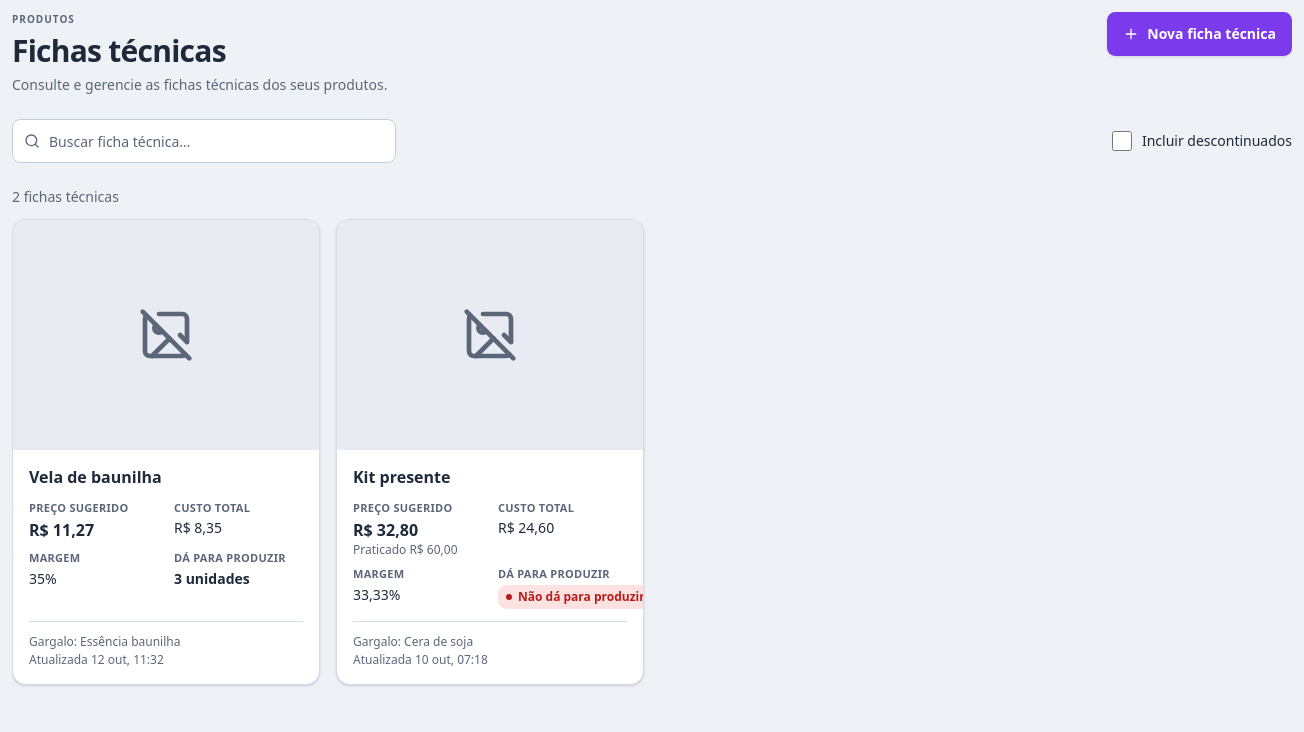
the list of composite products › narrows the list by name and says so when nothing matches
The width and height of the screenshot is (1304, 732).
Expected: the link "Vela de baunilha" is shown, [29,466,162,488]
Type "kit" into the search field labelled "Buscar ficha técnica" at (204, 141), box [12,119,396,163]
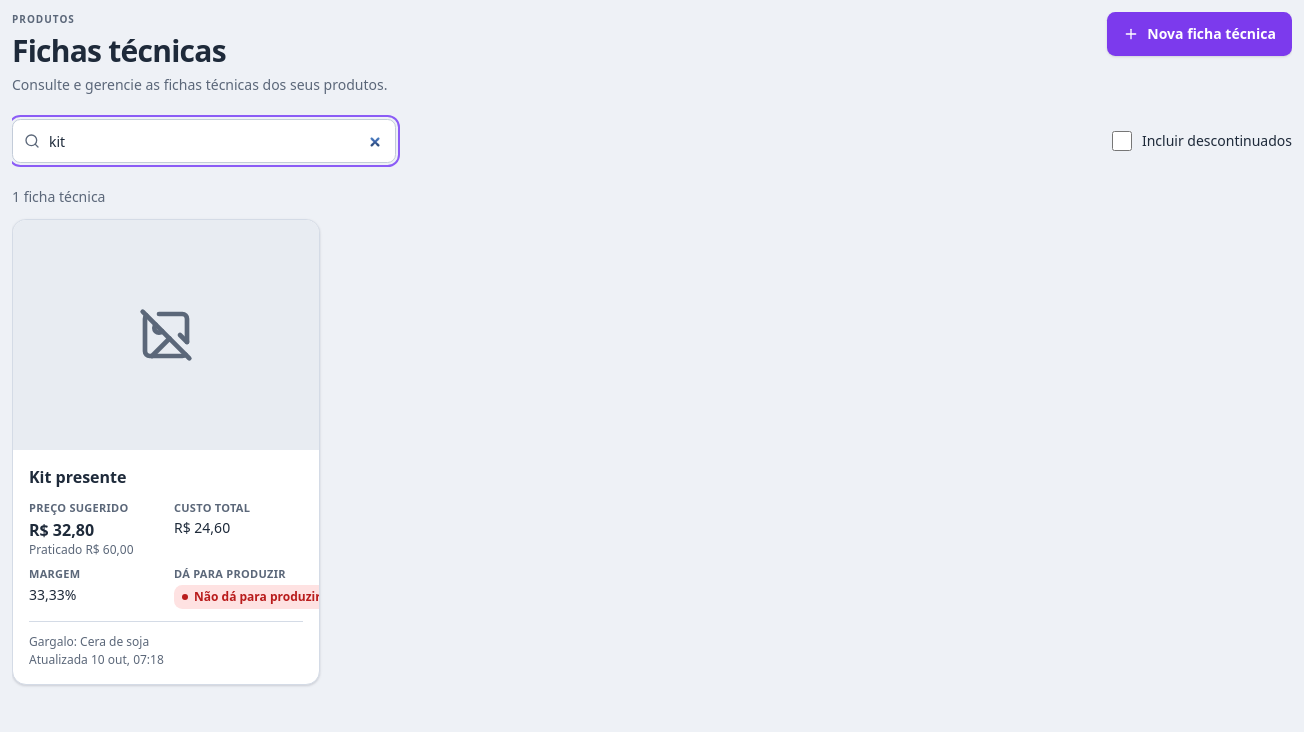
Expected: the link "Kit presente" is shown, [29,466,126,488]
Expected: the link "Vela de baunilha" is gone
Expected: the text "1 ficha técnica" is shown, [12,187,106,206]
Replace the text in the search field named "Buscar ficha técnica" with "zzz" at (204, 141), box [12,119,396,163]
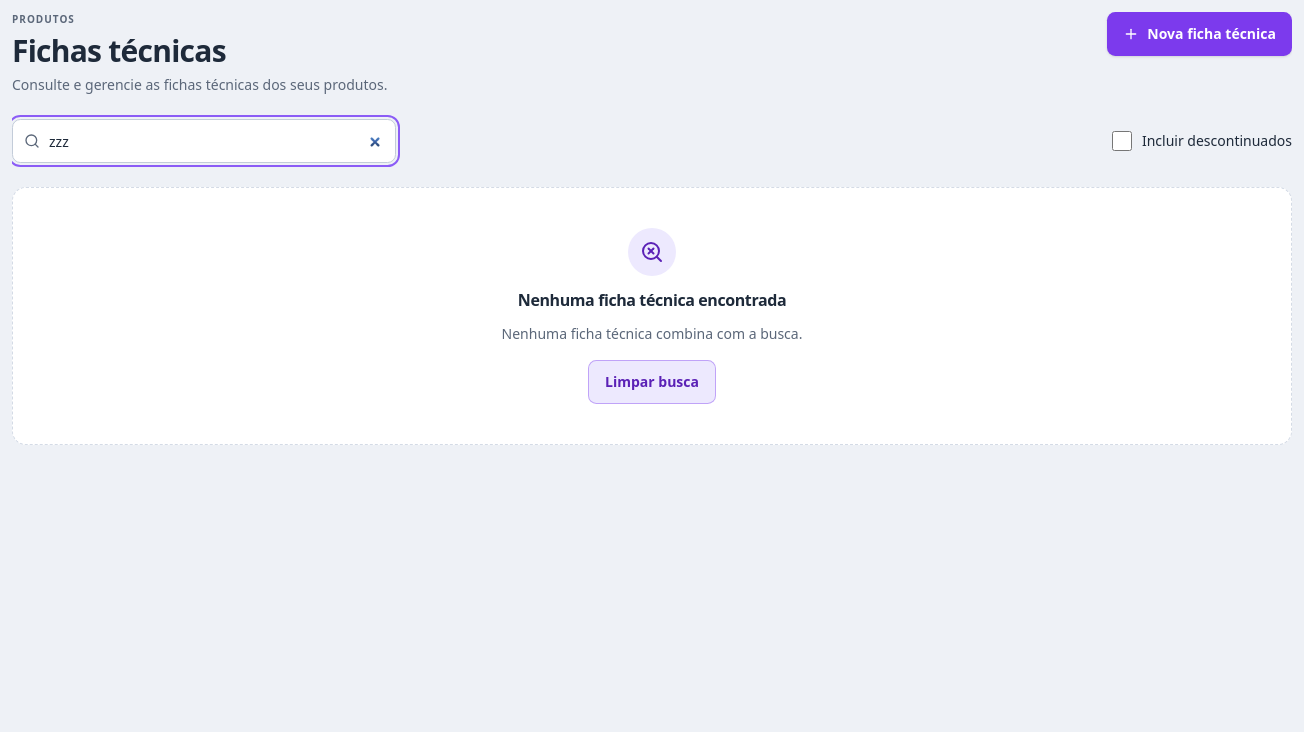
Expected: the heading "Nenhuma ficha técnica encontrada" is shown, [518,288,786,312]
Click the button "Limpar busca" at (652, 382), box [588,360,716,404]
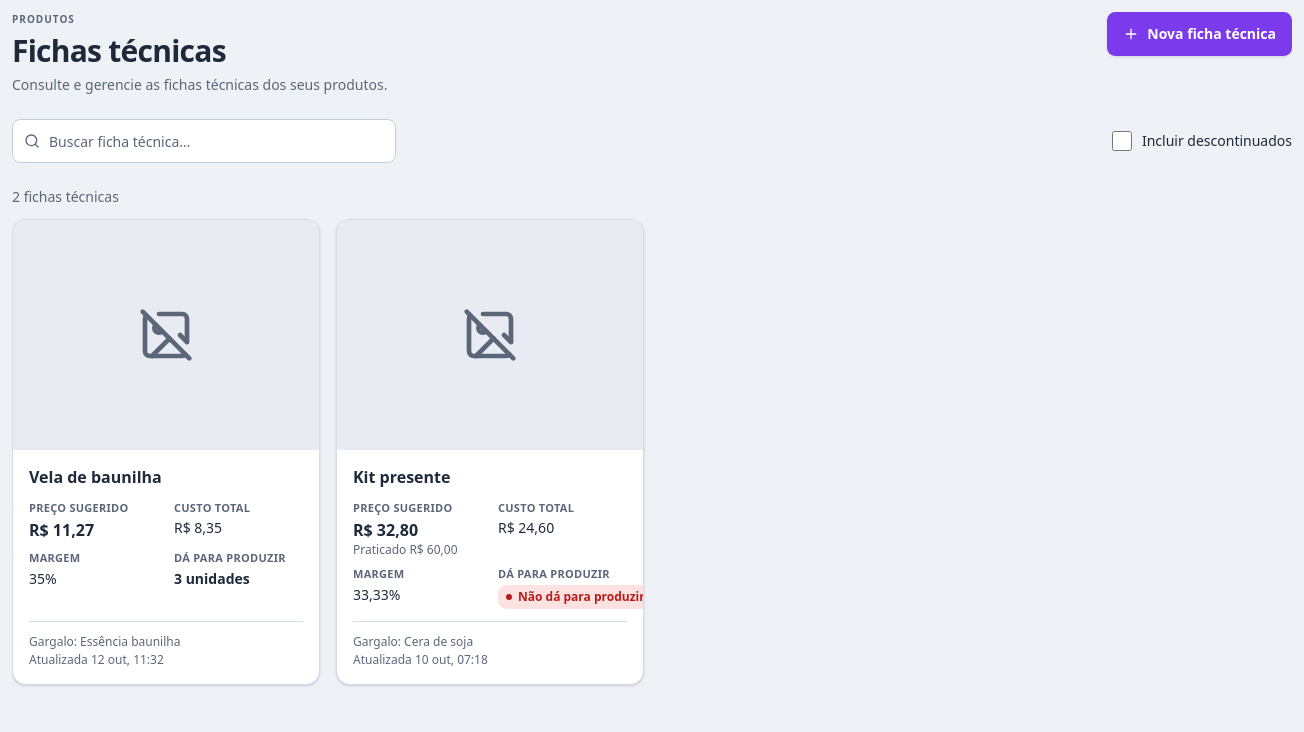
Expected: the link "Kit presente" is shown, [353,466,450,488]
